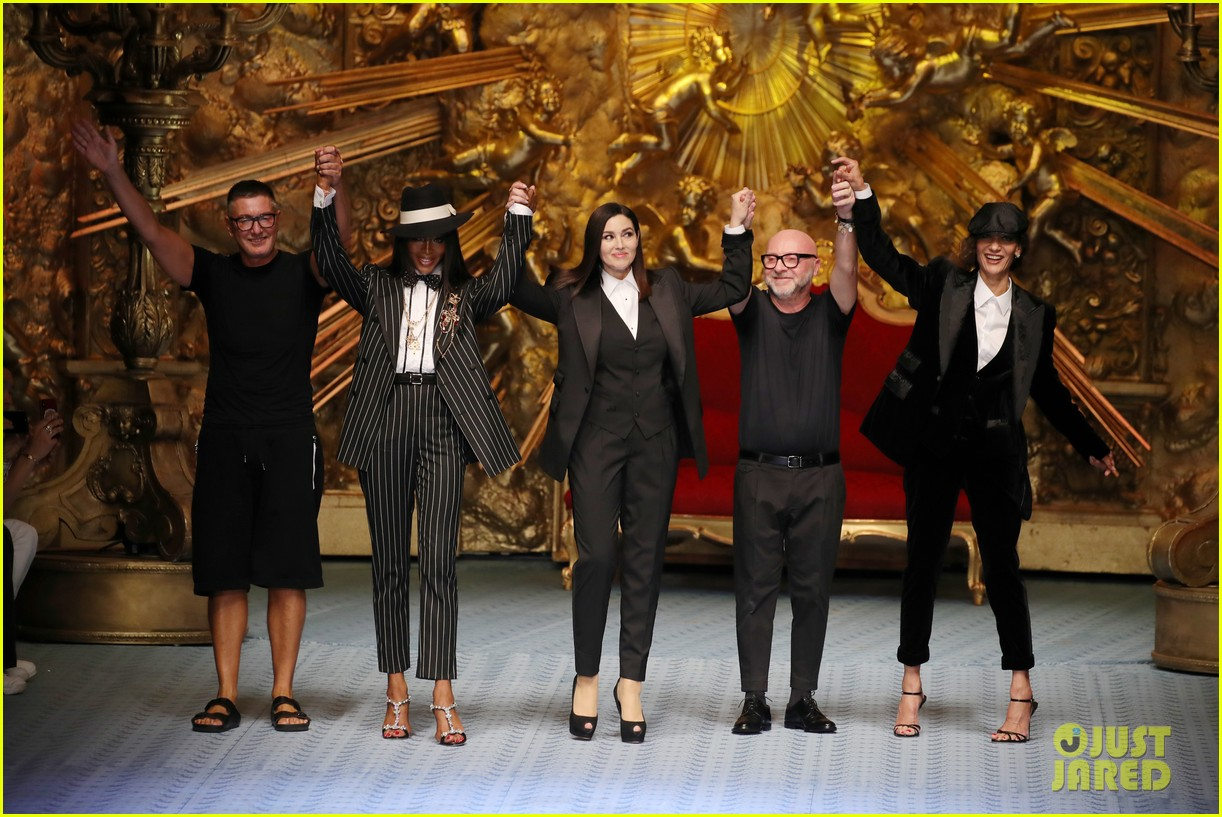feet: (872, 644, 1049, 752), (179, 654, 325, 745), (363, 664, 474, 748), (725, 663, 840, 739), (553, 660, 654, 744), (1, 610, 40, 687)
